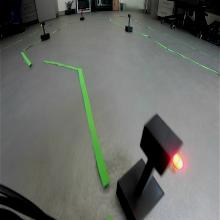red: (140, 112, 188, 177)
